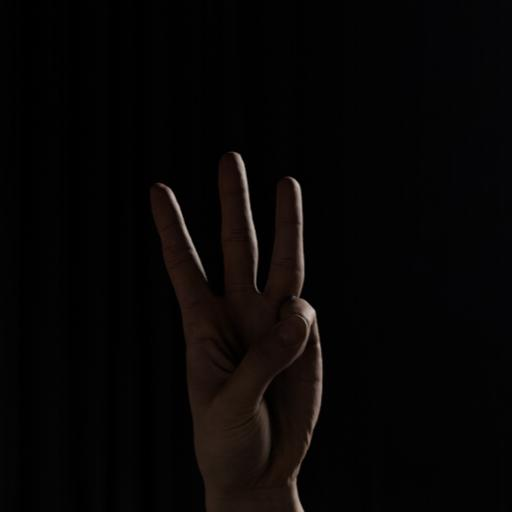W: (142, 146, 330, 502)
